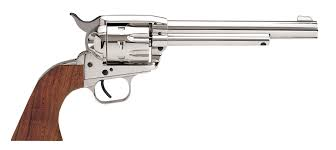gun: (13, 10, 321, 136)
